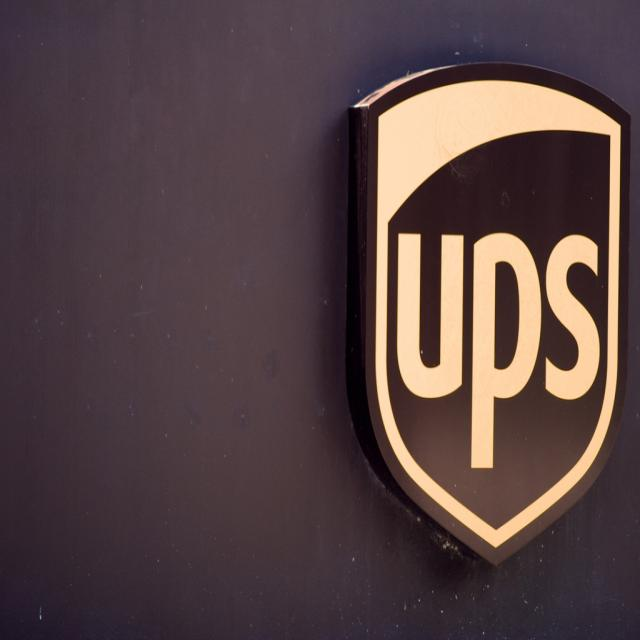ups: (366, 62, 634, 570)
